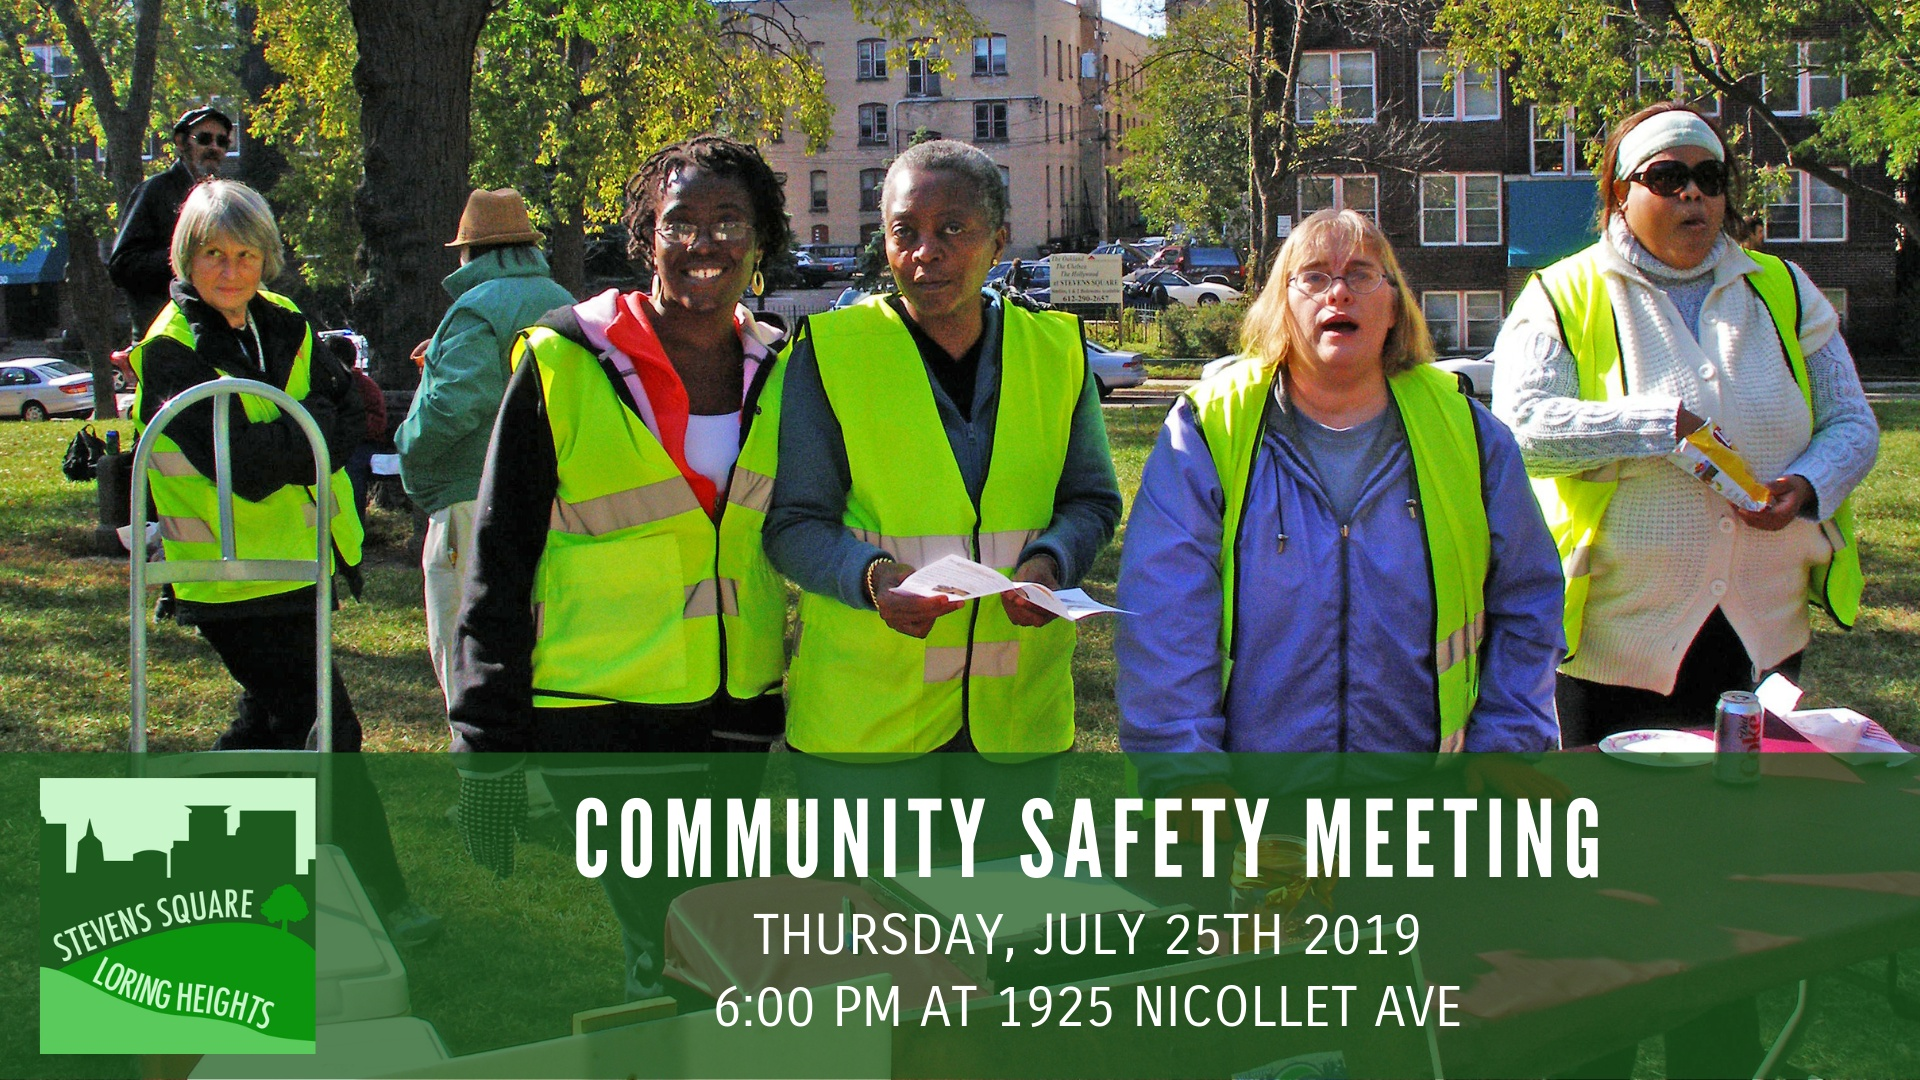person with partial safety: (1139, 211, 1551, 742), (1516, 109, 1856, 736), (797, 149, 1086, 759), (526, 139, 789, 749), (132, 185, 372, 752)
person without safety: (396, 186, 562, 704), (108, 114, 236, 317)
safety vest: (1542, 242, 1876, 659), (799, 304, 1089, 757), (519, 299, 798, 714), (1189, 360, 1493, 736), (129, 295, 366, 614)
